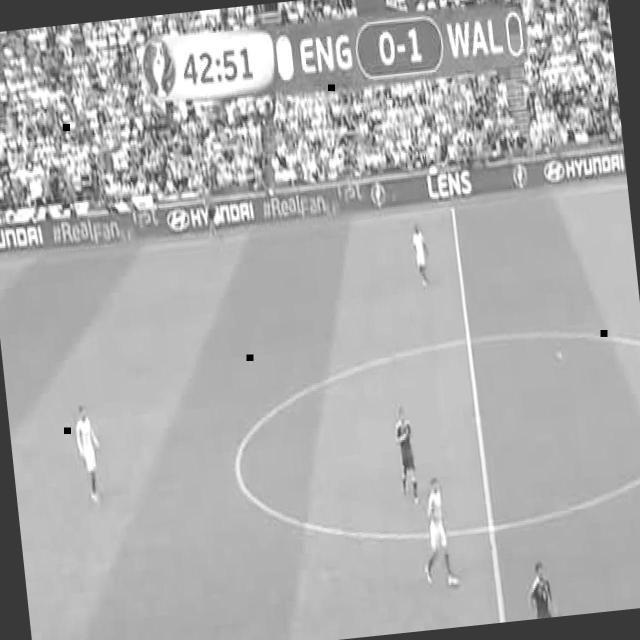player-white: (416, 475, 459, 591), (72, 404, 105, 507), (392, 403, 421, 507), (523, 558, 559, 620), (411, 224, 433, 293), (202, 181, 220, 237)
